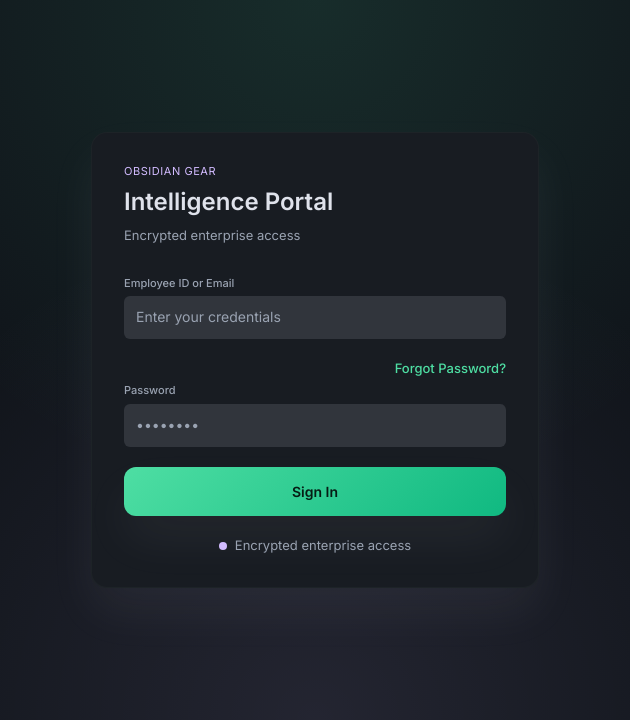
Scenario: LoginPage › exibe erro quando credenciais são inválidas
Type "foo" into the field labelled "Employee ID or Email" at (315, 318), box [136, 296, 494, 339]
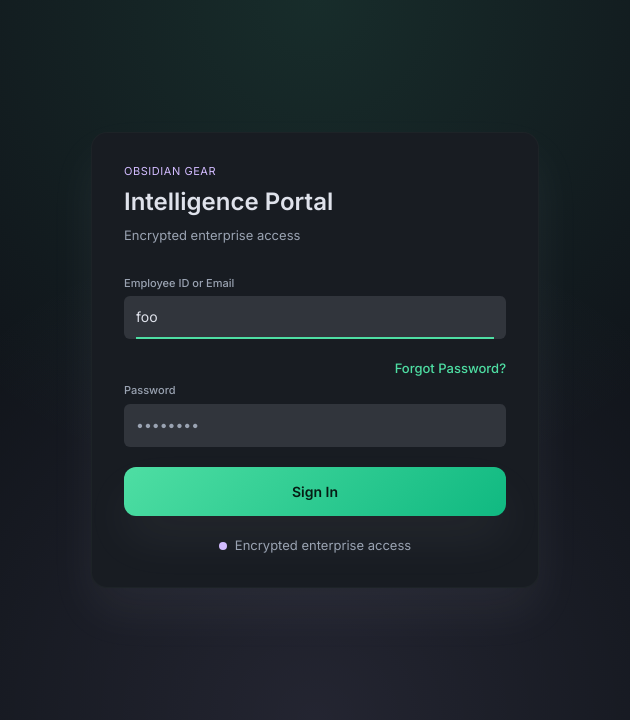
Type "bar" into the password field labelled "Password" at (315, 425), box [136, 404, 494, 447]
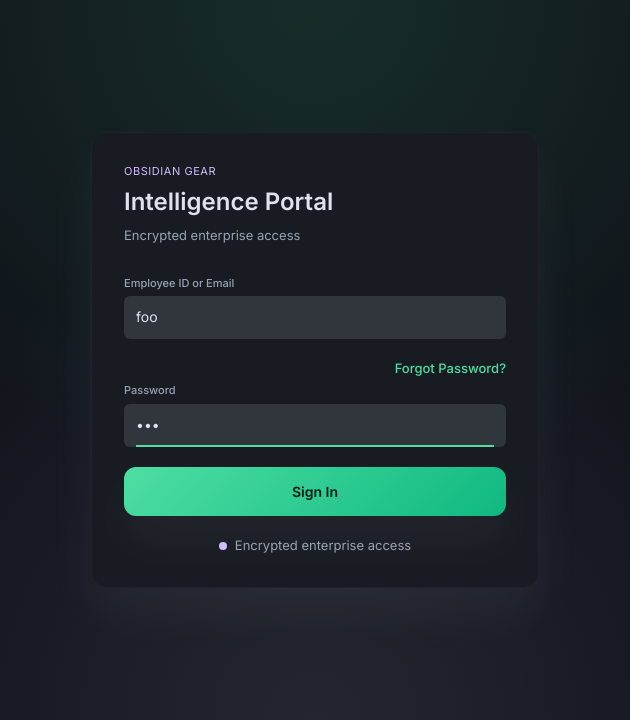
Click the button "Sign In" at (315, 491), box [124, 467, 506, 516]
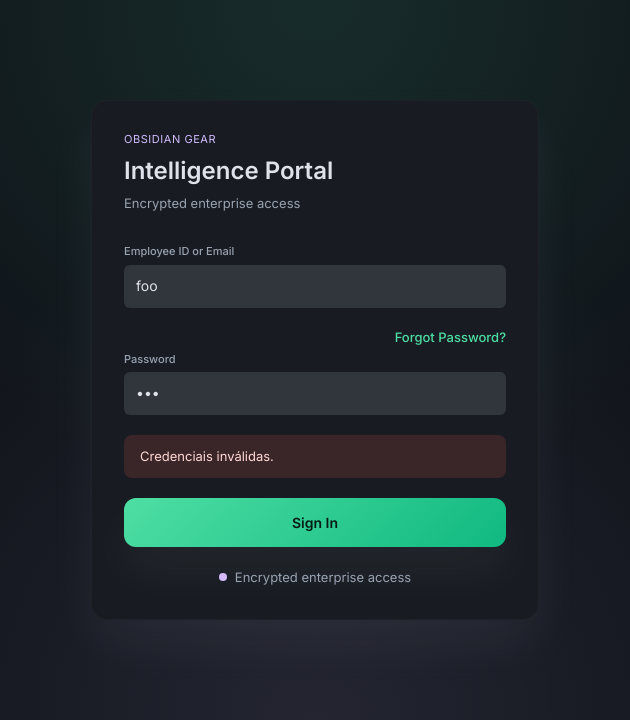
Result: the message shows "Credenciais inválidas" at [140, 448, 274, 464]
